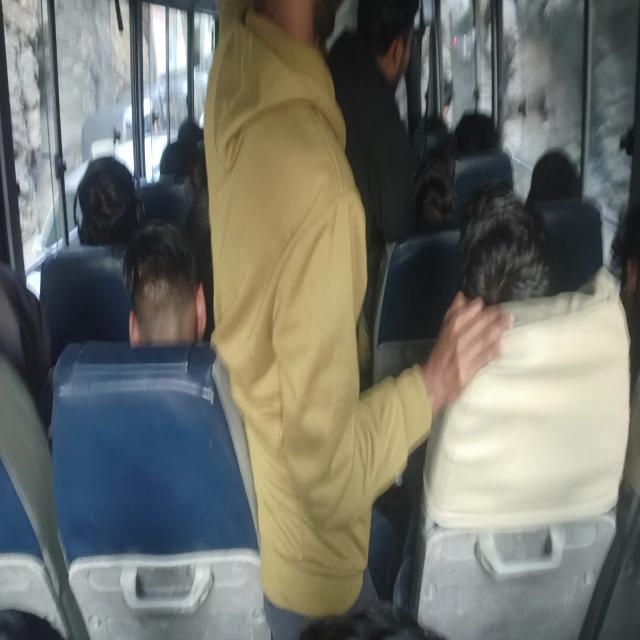person: (476, 191, 576, 352), (119, 248, 203, 360), (266, 0, 344, 92), (0, 285, 60, 385), (611, 180, 640, 386), (353, 0, 417, 72), (534, 131, 594, 205), (409, 171, 455, 246), (453, 103, 508, 162), (73, 154, 127, 212), (166, 141, 217, 196), (181, 110, 210, 156)
